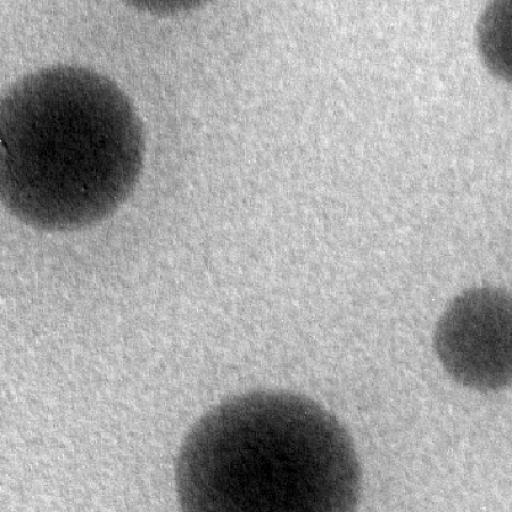Nanoparticles: (0, 65, 144, 225), (178, 391, 360, 511), (435, 285, 512, 391), (476, 0, 512, 86), (120, 1, 222, 16)
